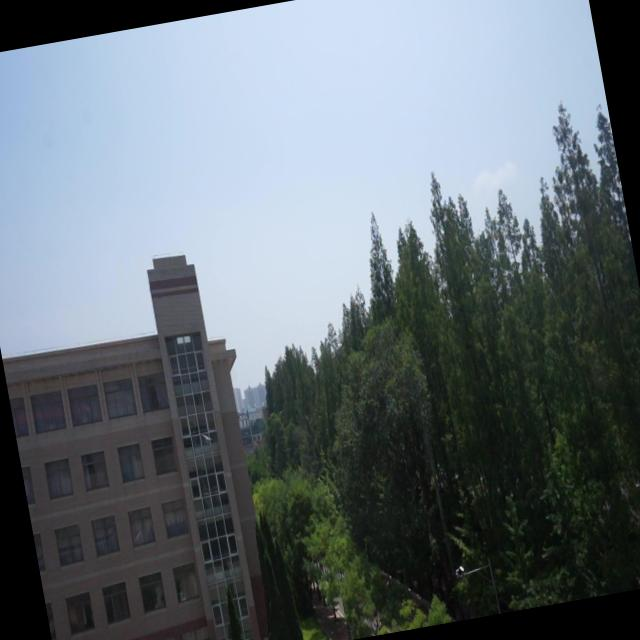drone: (198, 426, 216, 450)
